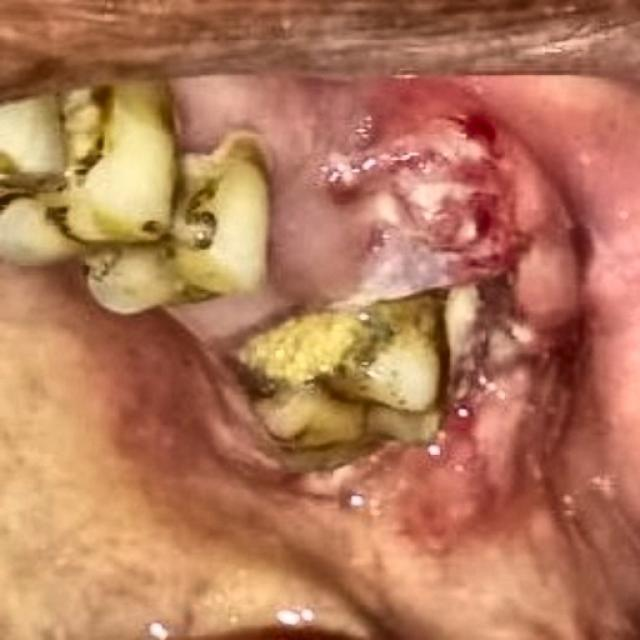cancer-detection: (147, 89, 590, 556)
processing_area: (10, 69, 639, 637)
